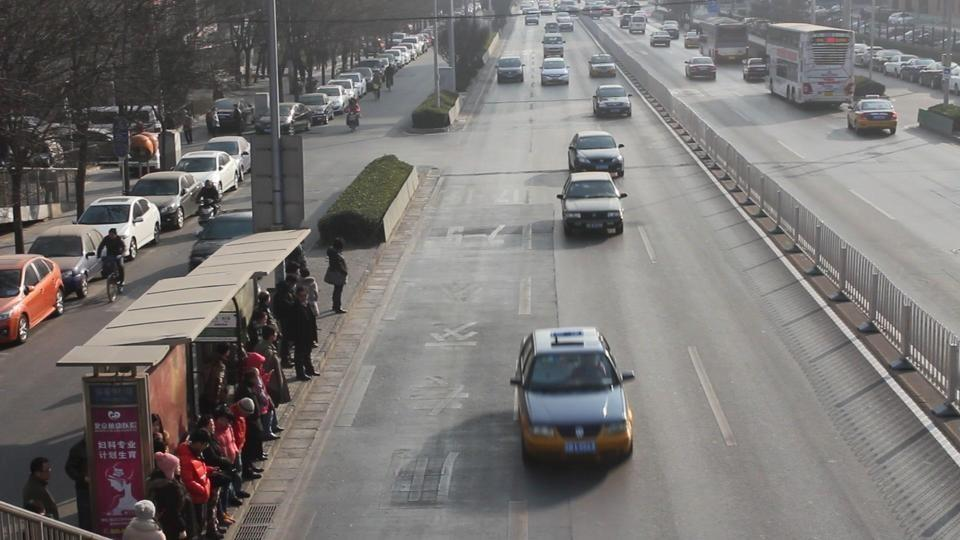car: (508, 325, 637, 468), (1, 254, 64, 348), (25, 227, 105, 301), (74, 196, 162, 258), (126, 170, 210, 230), (559, 171, 626, 238), (186, 210, 256, 274), (175, 150, 238, 198), (567, 131, 624, 173), (843, 96, 900, 136), (204, 136, 252, 180), (255, 103, 313, 136), (591, 83, 633, 119), (205, 99, 245, 135), (331, 70, 377, 100), (898, 57, 944, 81), (540, 57, 571, 86), (683, 56, 718, 81), (495, 56, 524, 83), (588, 53, 617, 79), (742, 58, 769, 82), (542, 31, 566, 54)
